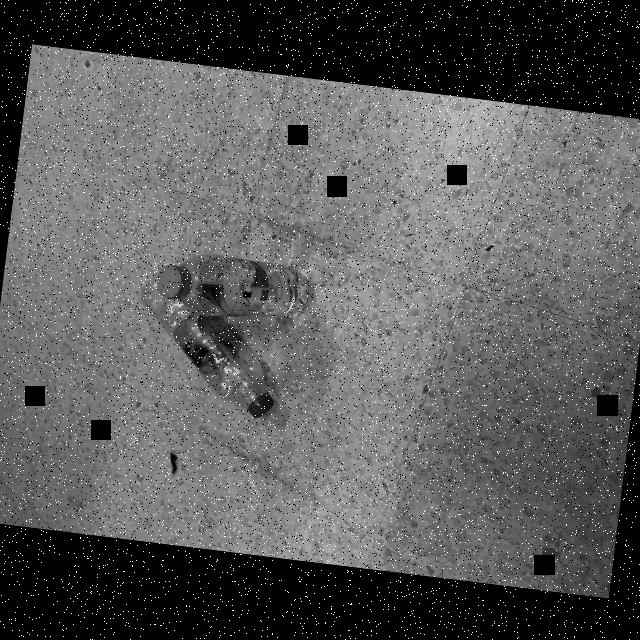plastic_bottle: (128, 266, 288, 416), (153, 244, 314, 326)
